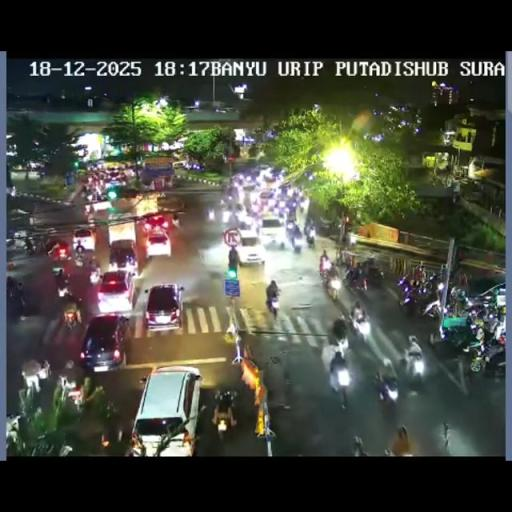Car: (128, 364, 201, 455), (79, 314, 130, 372), (144, 282, 184, 332), (96, 270, 138, 314), (463, 275, 505, 304), (235, 229, 265, 265), (109, 239, 138, 272), (259, 214, 286, 246), (145, 228, 171, 258), (154, 194, 184, 215), (73, 228, 94, 253), (47, 239, 70, 261), (258, 189, 274, 204), (254, 164, 272, 175), (263, 174, 277, 187), (106, 170, 121, 182), (242, 180, 257, 191), (172, 160, 187, 169)
Motorcycle: (323, 299, 420, 410), (466, 329, 504, 373), (438, 314, 477, 352), (211, 390, 238, 438), (98, 423, 130, 456), (372, 370, 398, 406), (330, 362, 350, 407), (398, 283, 422, 318), (405, 338, 425, 378), (350, 307, 372, 340), (58, 285, 82, 312), (462, 301, 490, 322), (421, 295, 443, 320), (348, 266, 369, 292), (323, 270, 341, 300), (280, 370, 294, 407), (421, 272, 441, 297), (66, 383, 86, 408), (436, 424, 452, 455), (450, 284, 466, 315), (383, 442, 417, 456), (332, 334, 349, 358), (266, 290, 280, 318), (15, 292, 30, 318), (352, 434, 369, 456), (6, 277, 22, 298), (492, 317, 505, 342), (88, 262, 102, 285), (227, 207, 242, 228), (380, 357, 394, 378), (228, 246, 239, 272), (318, 250, 330, 273), (38, 359, 50, 382), (22, 239, 38, 256), (286, 219, 300, 237), (103, 400, 116, 419), (242, 192, 253, 214), (225, 190, 238, 208), (285, 201, 296, 220), (346, 232, 358, 249), (336, 248, 347, 266), (328, 221, 339, 238), (290, 233, 300, 251), (170, 212, 180, 229), (206, 204, 215, 221), (306, 230, 315, 246), (6, 237, 16, 249), (138, 374, 148, 386), (340, 230, 347, 246), (83, 202, 91, 216), (85, 190, 94, 202), (119, 174, 127, 186), (38, 169, 44, 180)
